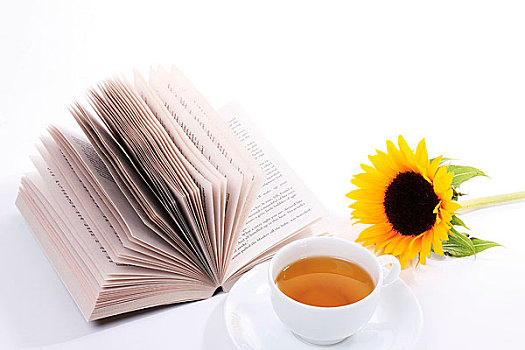book: (14, 60, 339, 329)
